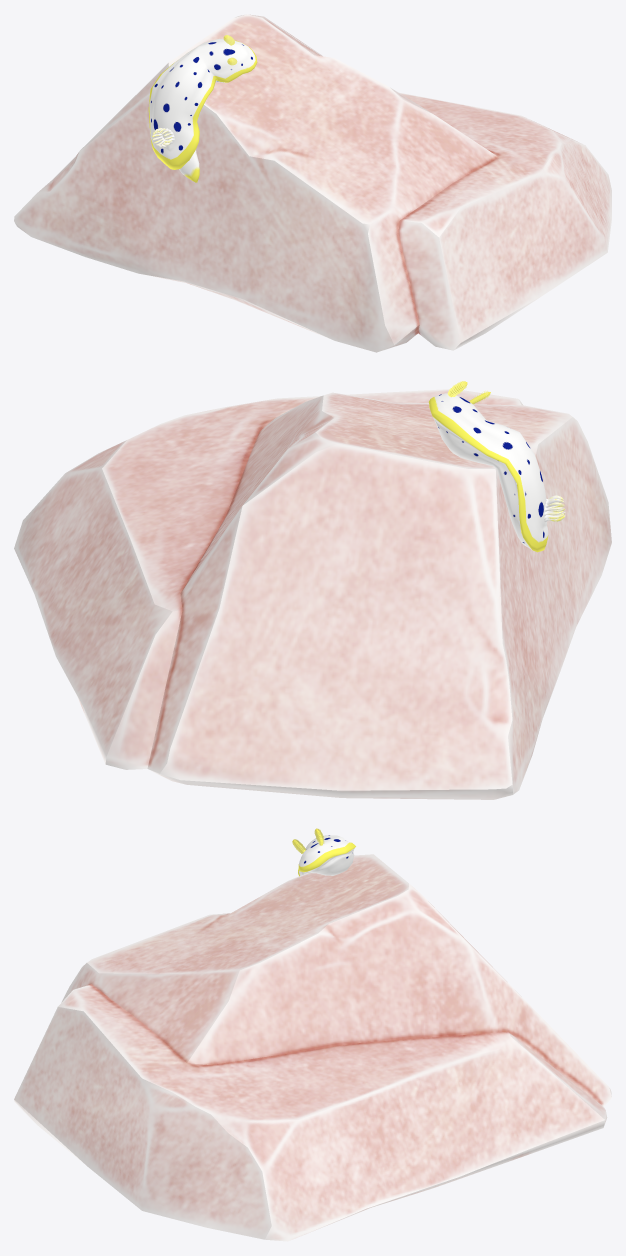
Rendered from siro.glb.
The picture shows the model from 3 angles, top to bottom: view 1: azimuth 30°, elevation 25°; view 2: azimuth 150°, elevation 25°; view 3: azimuth 270°, elevation 25°; orthographic projection. The views are drawn at different scales.
Visible parts, largest first — view 1: Small_Rock_000_LOD0, UMIUSHI.003; view 2: Small_Rock_000_LOD0, UMIUSHI.003; view 3: Small_Rock_000_LOD0, UMIUSHI.003.
Boxes of the visible parts, bbox=[...] form: Small_Rock_000_LOD0: bbox=[14, 14, 611, 352]; UMIUSHI.003: bbox=[148, 35, 257, 182]; Small_Rock_000_LOD0: bbox=[14, 389, 611, 799]; UMIUSHI.003: bbox=[428, 381, 565, 552]; Small_Rock_000_LOD0: bbox=[14, 854, 611, 1241]; UMIUSHI.003: bbox=[292, 828, 355, 876].
Bounding box in the file's own units: 2.5 × 1.13 × 2.59.
Materials: 2 (2 with a texture image).
